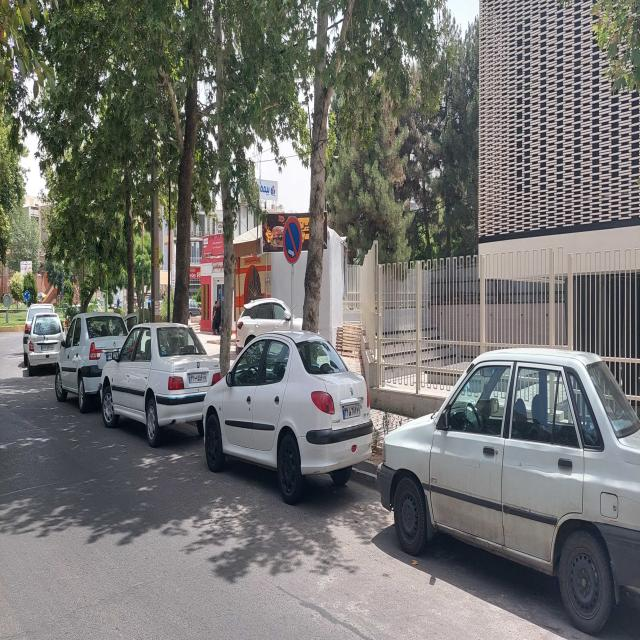forb_stopping: (282, 218, 301, 265)
